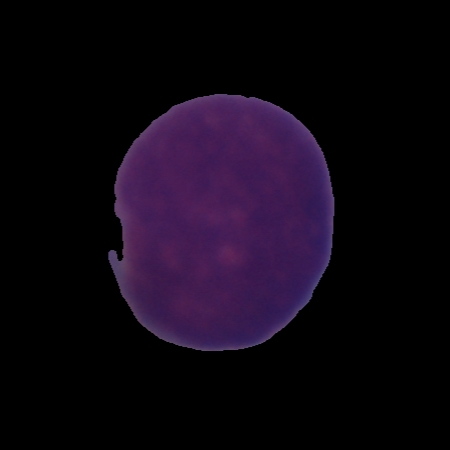ALL: (105, 89, 339, 357)
